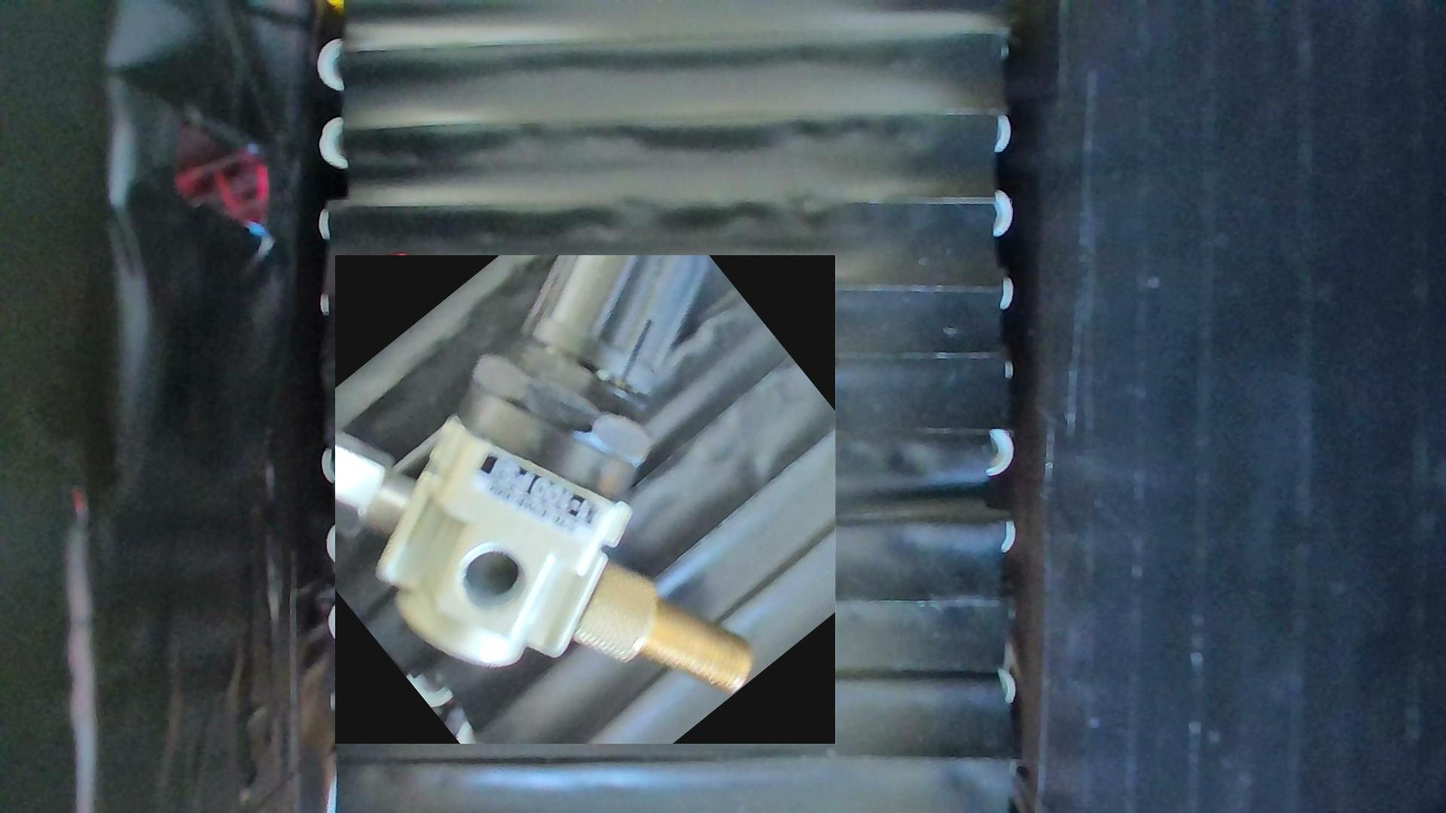regulator: (336, 255, 837, 744)
